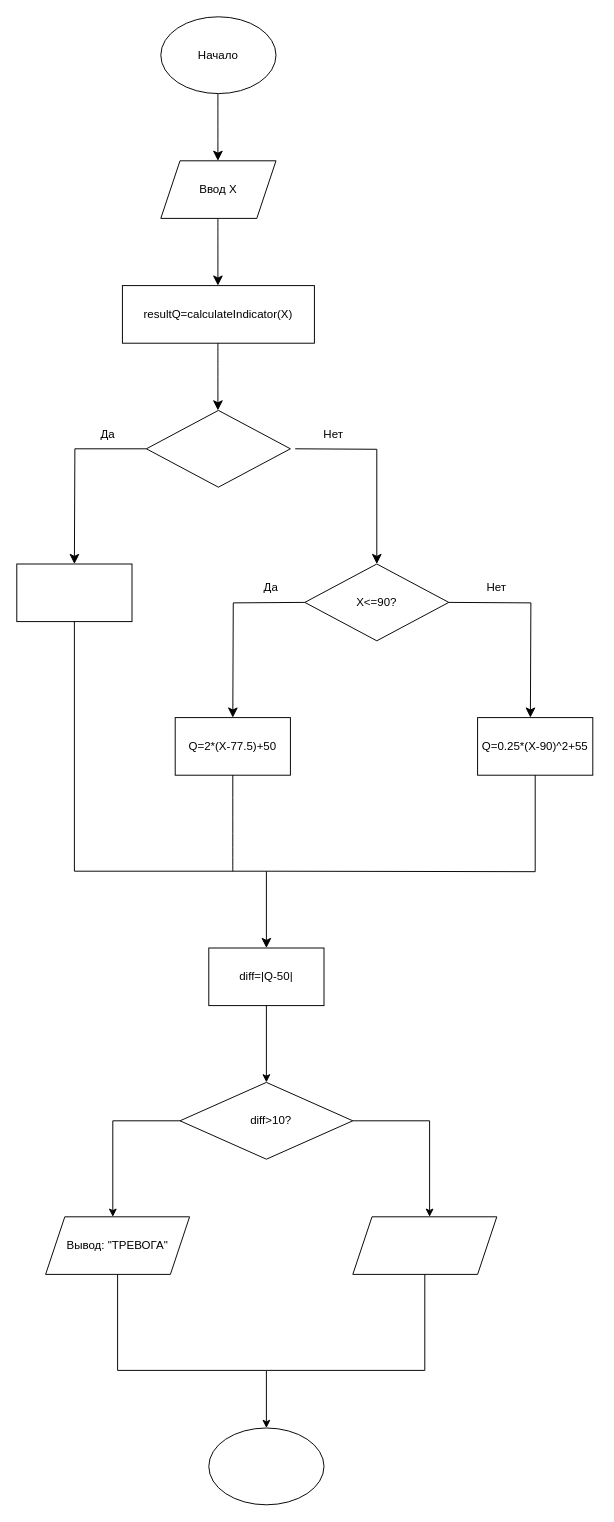
The diagram is 614 pixels wide and 1522 high, and some of its shapes have lost their labels. Each missing label, with the centre of its shape:
Q=6*sqrt(X-65)+5: pixel 74 592
X<65?: pixel 217 448
Вывод: "НОРМА": pixel 424 1245
Конец: pixel 266 1466
